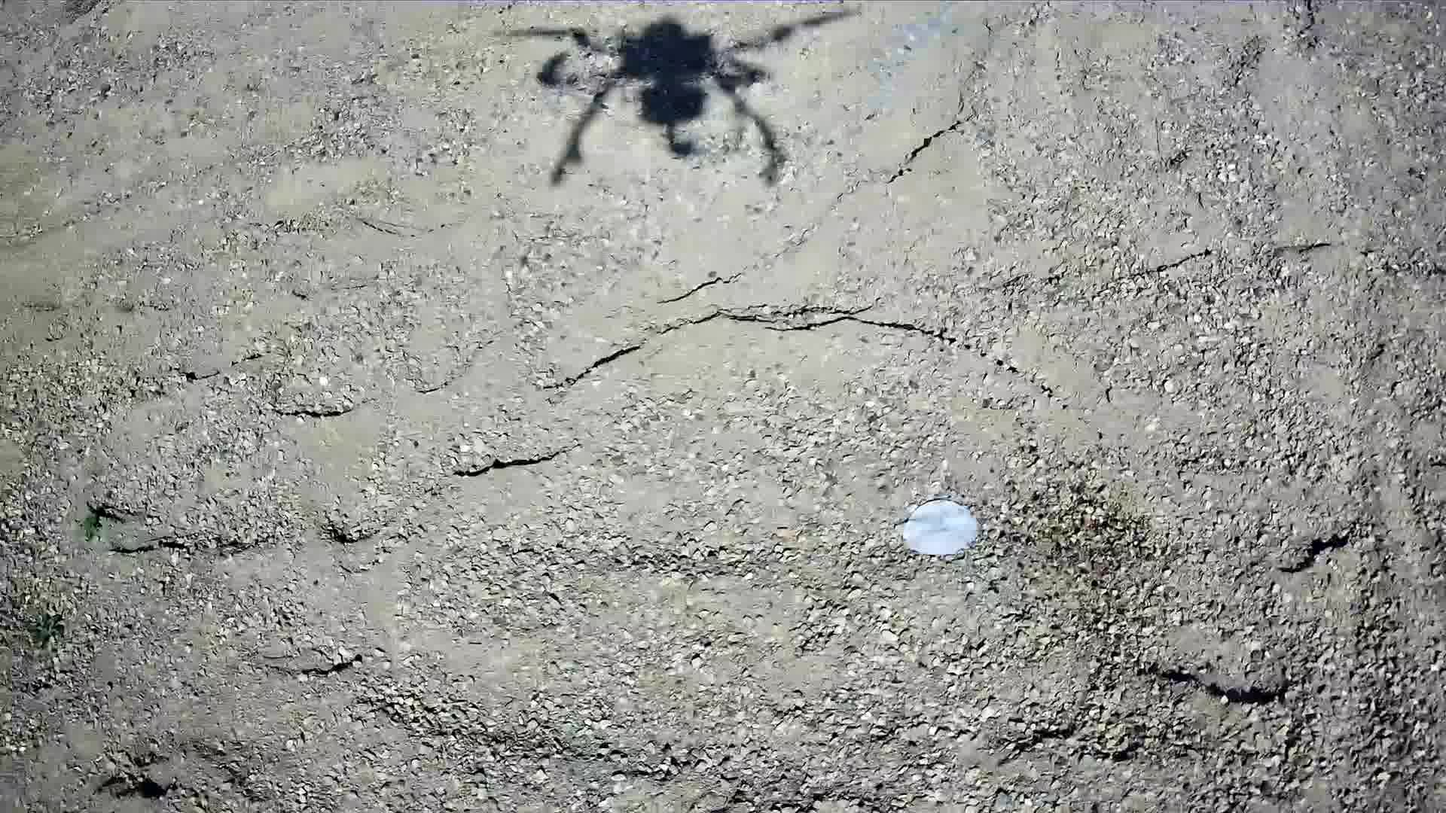Target: (901, 499, 983, 560)
